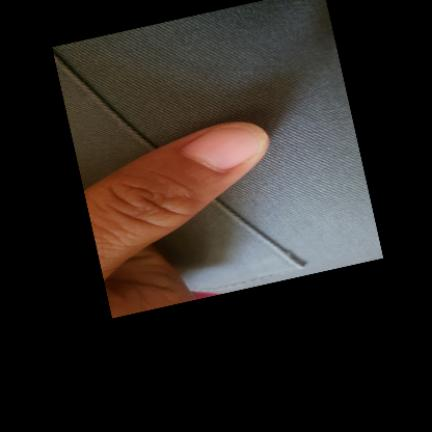Nail: (183, 123, 267, 171)
